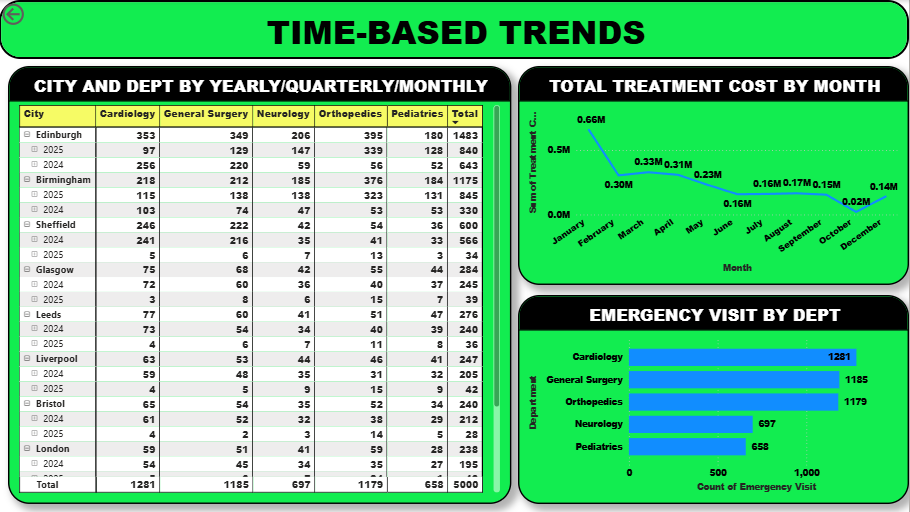

The page's visual inventory and layout, read from the dashboard file:
{"tool":"powerbi","page":{"name":"Time-Based Trends","canvas":[1280,720],"ordinal":3},"visuals":[{"type":"textbox","title":"TIME-BASED TRENDS","box":[0,0,1280,83],"z":0},{"type":"pivotTable","title":"CITY AND DEPT BY YEARLY/QUARTERLY/MONTHLY","fields":{"Columns":["departments.Department"],"Values":["XMEASURE.XTOTAL VISITS"],"Rows":["cities.City","visits.Date of Visit.Variation.Date Hierarchy.Year","visits.Date of Visit.Variation.Date Hierarchy.Quarter","visits.Date of Visit.Variation.Date Hierarchy.Month"]},"box":[12.7,92.8,707.5,616.1],"z":1000},{"type":"actionButton","box":[0,0,100,40],"z":2000},{"type":"lineChart","title":"TOTAL TREATMENT COST BY MONTH","fields":{"Category":["visits.Date of Visit.Variation.Date Hierarchy.Month"],"Y":["Sum(visits.Treatment Cost)"]},"box":[730,92.8,550,308],"z":3000},{"type":"clusteredBarChart","title":"EMERGENCY VISIT BY DEPT","fields":{"Category":["departments.Department"],"Y":["CountNonNull(visits.Emergency Visit)"]},"box":[730,414.9,550,294],"z":4000}]}

Visuals, with their boxes in screenshot pixels (x1, y1, x2, y2), scaled from the page's 1280x720 canvas onto the 910x512 screenshot:
"TIME-BASED TRENDS" textbox: bbox(0, 0, 909, 59)
"CITY AND DEPT BY YEARLY/QUARTERLY/MONTHLY" pivotTable: bbox(9, 66, 512, 504)
actionButton: bbox(0, 0, 71, 28)
"TOTAL TREATMENT COST BY MONTH" lineChart: bbox(519, 66, 909, 285)
"EMERGENCY VISIT BY DEPT" clusteredBarChart: bbox(519, 295, 909, 504)
